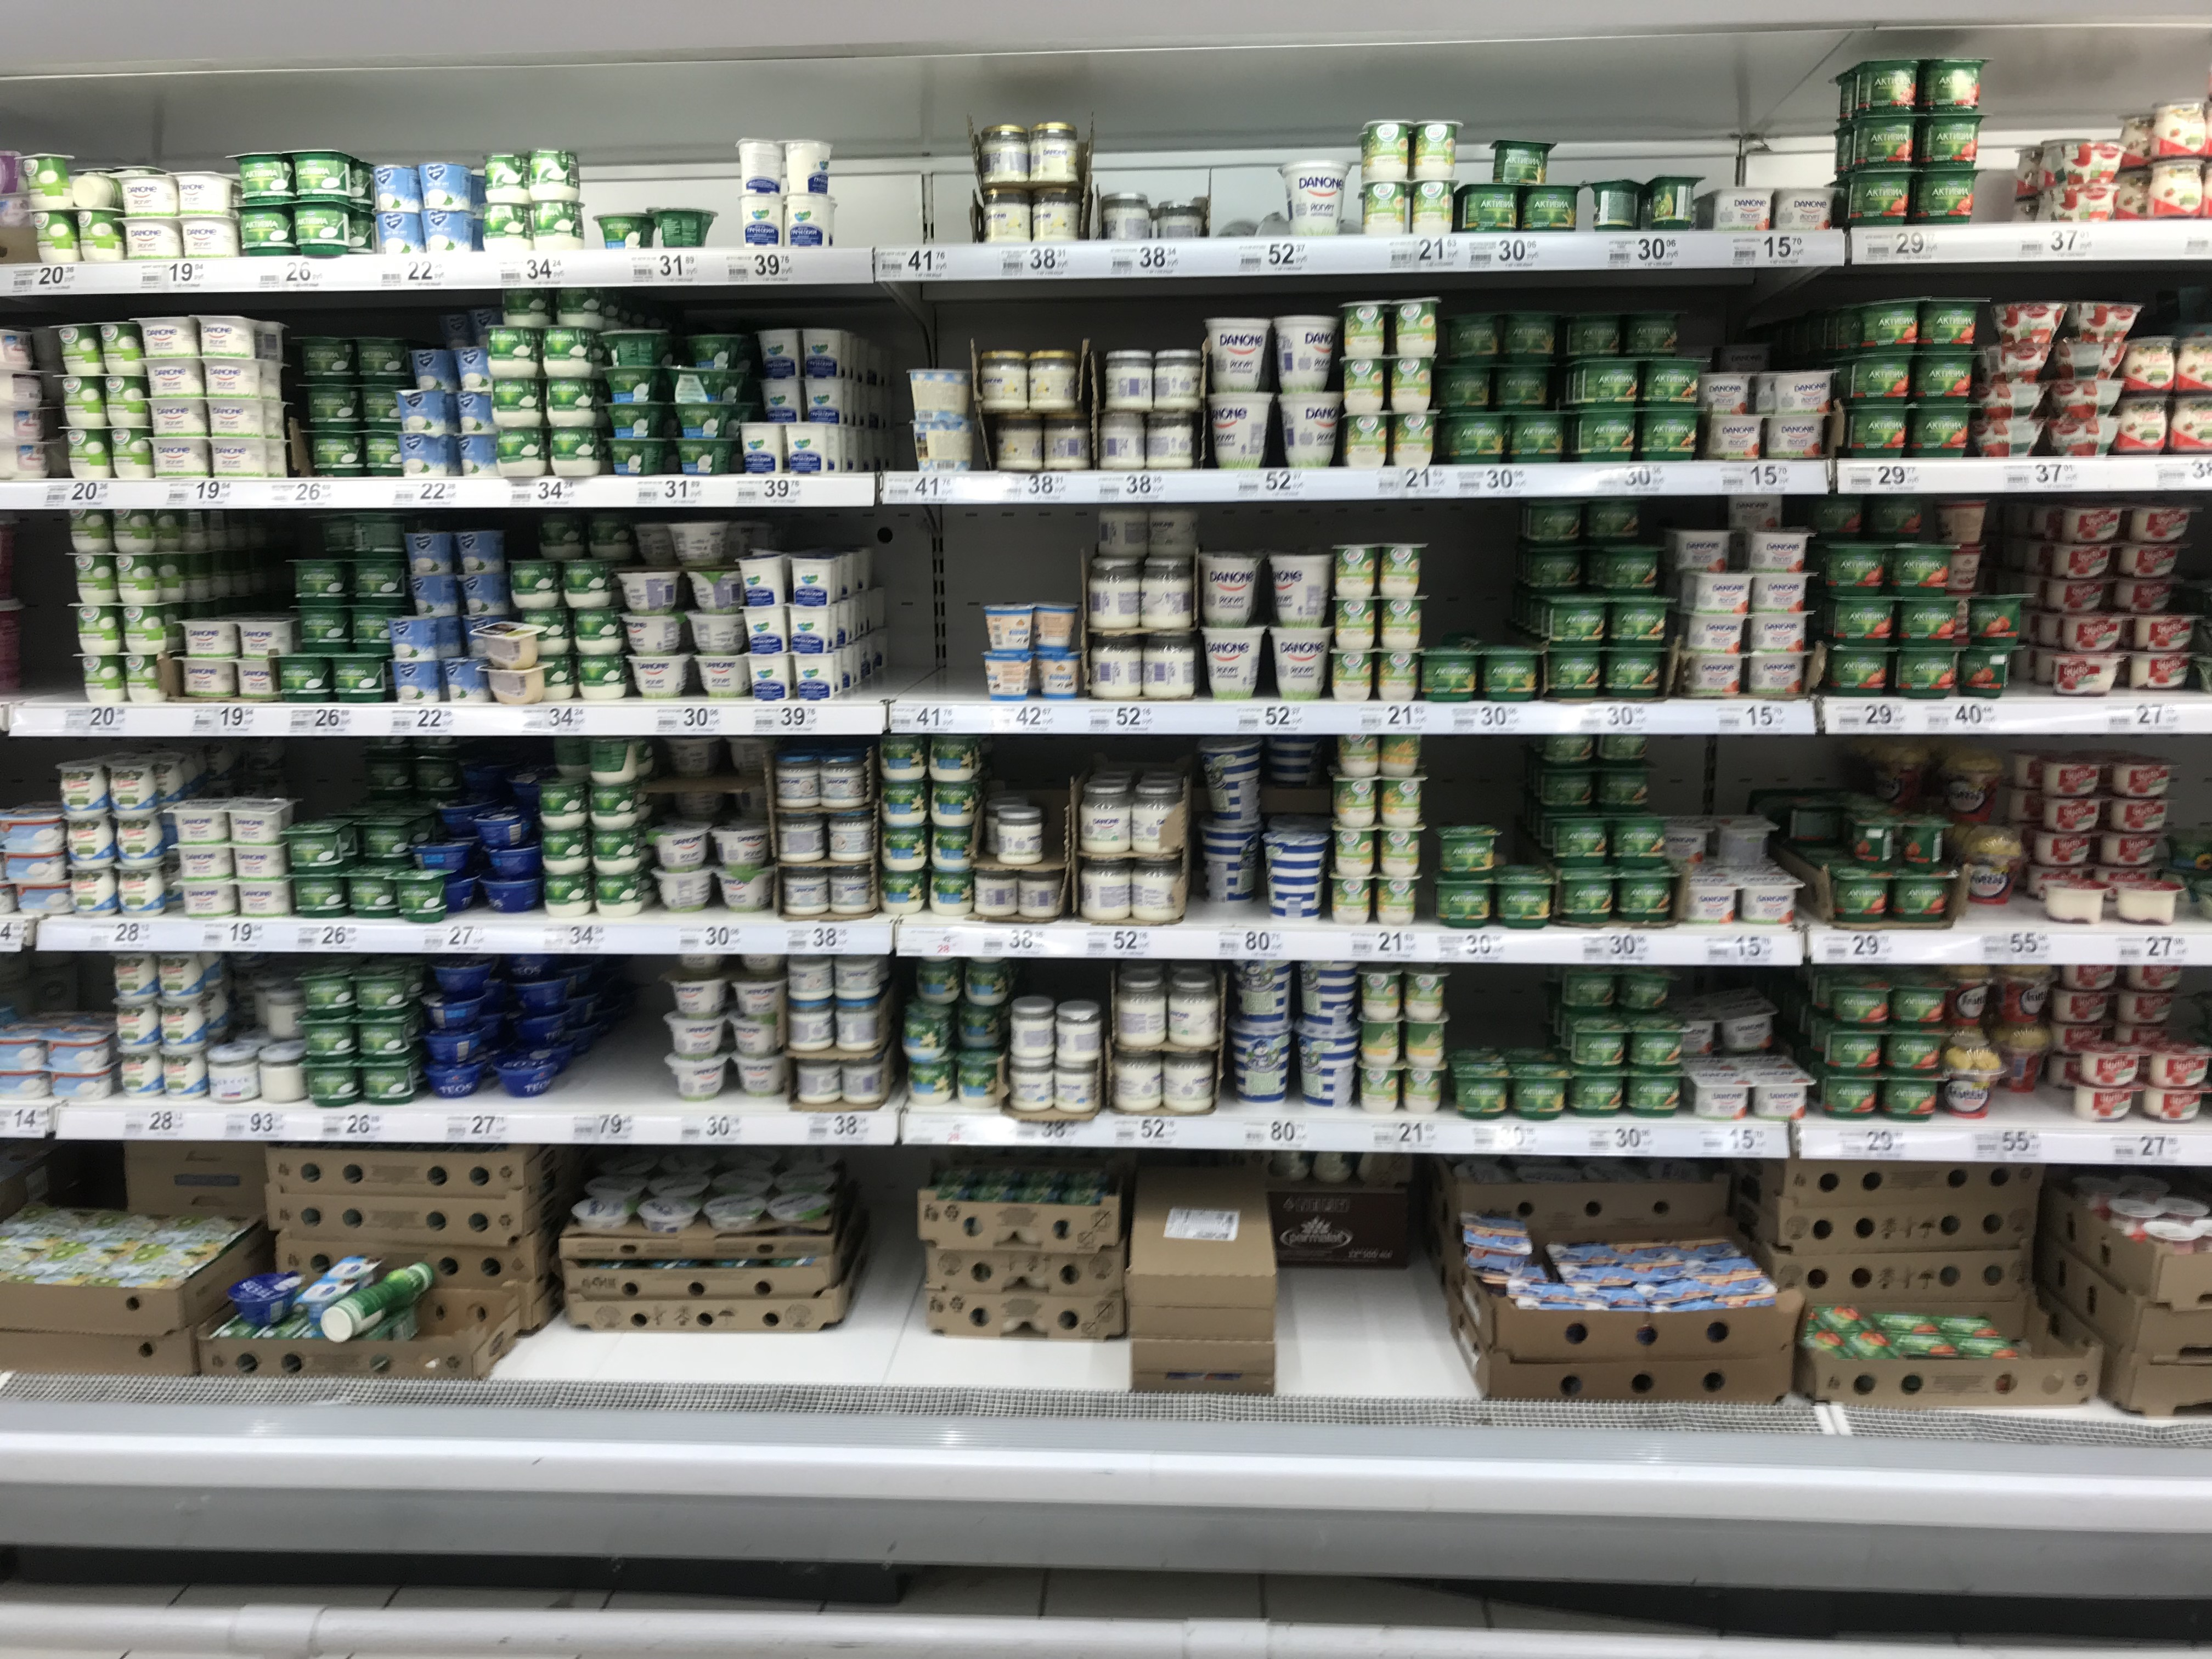yogbox: (1949, 1039, 2001, 1119), (1965, 826, 2017, 906), (1947, 746, 2000, 819), (904, 425, 974, 477), (2045, 415, 2120, 460), (2048, 650, 2121, 695), (2125, 610, 2200, 653), (2041, 877, 2107, 925), (2149, 101, 2207, 157), (1390, 298, 1444, 357), (1947, 964, 1993, 1033), (1989, 300, 2064, 340), (1972, 415, 2047, 455), (2121, 504, 2196, 544), (902, 376, 968, 422), (732, 139, 787, 192), (2116, 399, 2167, 457), (64, 211, 124, 260), (2080, 1042, 2146, 1086), (1388, 357, 1435, 418), (232, 1281, 300, 1323), (2008, 1021, 2050, 1089), (2148, 162, 2202, 214), (491, 1049, 564, 1087), (2071, 300, 2144, 338), (2128, 650, 2198, 690), (2003, 964, 2048, 1025), (258, 1049, 310, 1101), (1327, 599, 1379, 652), (2149, 1046, 2212, 1089), (2052, 615, 2130, 650), (780, 420, 829, 476), (1332, 542, 1381, 598), (23, 150, 70, 207), (1341, 415, 1388, 472), (2127, 336, 2172, 396), (2055, 340, 2125, 378), (1418, 122, 1461, 183), (2116, 882, 2182, 922), (1343, 300, 1390, 356), (2048, 380, 2120, 416), (1367, 122, 1411, 181), (51, 1061, 117, 1100), (416, 1025, 491, 1058), (2060, 145, 2125, 183), (779, 141, 831, 188), (738, 606, 791, 653), (261, 986, 307, 1040), (2118, 544, 2188, 579), (2055, 183, 2121, 220), (737, 197, 786, 246), (1378, 599, 1426, 648), (66, 429, 113, 479), (211, 1047, 258, 1098), (56, 380, 108, 425), (404, 526, 449, 579), (786, 197, 838, 242), (1331, 652, 1376, 704), (1975, 382, 2047, 415), (2078, 1086, 2142, 1122), (2111, 577, 2175, 613), (1987, 343, 2048, 382), (1407, 969, 1449, 1025), (2101, 830, 2167, 864), (2040, 579, 2106, 613), (30, 213, 78, 260), (2109, 795, 2172, 831), (51, 324, 101, 369), (446, 659, 496, 704), (1379, 650, 1425, 701), (1357, 1066, 1402, 1117), (2114, 758, 2174, 796), (397, 434, 451, 476), (798, 328, 840, 382), (2047, 544, 2114, 577), (2033, 830, 2097, 864), (2062, 507, 2127, 542), (2148, 1086, 2209, 1122), (1404, 1019, 1449, 1068), (373, 162, 423, 206), (1360, 965, 1404, 1016), (477, 805, 529, 847), (68, 167, 122, 207), (428, 993, 493, 1026), (984, 652, 1031, 697), (423, 207, 472, 251), (56, 1023, 108, 1063), (1367, 185, 1407, 237), (1343, 359, 1383, 411), (1329, 878, 1374, 924), (127, 603, 169, 652), (9, 814, 64, 850), (759, 329, 801, 378), (1404, 1065, 1444, 1115), (16, 882, 77, 915), (2054, 986, 2111, 1021), (157, 962, 202, 1006), (453, 528, 498, 572), (374, 211, 420, 254), (789, 605, 834, 648), (1336, 732, 1381, 775), (1374, 878, 1418, 924), (91, 322, 138, 364), (428, 1061, 486, 1094), (1385, 542, 1418, 599), (390, 617, 435, 659), (1334, 828, 1376, 873), (105, 383, 152, 423), (164, 1002, 204, 1049), (397, 389, 444, 429), (1360, 1018, 1400, 1065), (1416, 185, 1454, 234), (1338, 781, 1376, 830), (2175, 401, 2212, 451), (73, 556, 115, 599), (465, 572, 509, 613), (1392, 418, 1435, 460), (415, 838, 472, 870), (751, 655, 789, 702), (420, 160, 462, 202), (2043, 795, 2099, 826), (2047, 758, 2102, 789), (108, 762, 148, 805), (794, 558, 834, 601), (1038, 653, 1082, 694), (85, 655, 124, 701), (75, 810, 113, 856), (984, 612, 1031, 648), (394, 662, 442, 697), (2121, 990, 2175, 1021), (413, 575, 455, 615), (742, 561, 782, 603), (108, 432, 146, 476), (122, 659, 160, 702), (1038, 603, 1075, 648), (486, 877, 538, 908), (744, 422, 779, 469), (1383, 782, 1421, 824), (1383, 831, 1421, 873), (3, 1030, 49, 1065), (117, 511, 155, 551), (122, 875, 162, 913), (66, 765, 103, 807), (122, 819, 164, 856), (2054, 1021, 2102, 1053), (1385, 734, 1420, 777), (9, 856, 63, 884), (456, 430, 495, 469), (792, 659, 831, 697), (2182, 336, 2212, 385), (2062, 964, 2116, 990), (5, 1066, 56, 1094), (413, 350, 449, 389), (491, 845, 543, 871), (124, 1051, 160, 1087), (122, 1009, 162, 1042), (167, 1051, 200, 1091), (70, 512, 110, 544), (80, 878, 115, 913), (763, 385, 798, 420), (117, 958, 150, 995), (75, 612, 113, 643), (458, 389, 488, 427), (118, 565, 153, 596), (456, 343, 482, 376), (2135, 969, 2179, 988)
yogbox.activ.ky.kivi: (1646, 356, 1710, 408), (1578, 410, 1642, 462), (1590, 490, 1655, 542), (1552, 816, 1616, 868), (1601, 545, 1663, 598), (1547, 594, 1609, 647), (1573, 359, 1637, 410), (1642, 411, 1707, 462), (1602, 647, 1667, 697), (1540, 647, 1604, 697), (1524, 540, 1588, 591), (1521, 491, 1585, 542), (1609, 821, 1674, 871), (1534, 765, 1599, 816), (1564, 1018, 1629, 1068), (1564, 1070, 1629, 1121), (1604, 594, 1667, 645), (1618, 875, 1681, 925), (1557, 875, 1620, 925), (1599, 765, 1662, 816), (1627, 1016, 1689, 1066), (1562, 965, 1625, 1016), (1622, 964, 1684, 1014), (1632, 1075, 1695, 1126)
yogbox.activ.ky.klubnik: (1893, 645, 1958, 701), (1834, 587, 1898, 643), (1827, 538, 1892, 594), (1890, 538, 1954, 594), (1846, 404, 1911, 460), (1851, 349, 1916, 404), (1916, 295, 1980, 350), (1905, 406, 1970, 462), (1918, 115, 1982, 171), (1853, 110, 1918, 166), (1857, 295, 1919, 350), (1968, 589, 2031, 645), (1900, 594, 1965, 648), (1912, 349, 1977, 403), (1848, 173, 1912, 227), (1914, 169, 1979, 223), (1918, 59, 1982, 113), (1834, 866, 1893, 924), (1858, 59, 1921, 113), (1893, 875, 1952, 931), (1836, 976, 1895, 1032), (1892, 976, 1951, 1032), (1890, 1019, 1949, 1075), (1893, 814, 1952, 870), (1829, 643, 1888, 699), (1818, 1075, 1883, 1121), (1881, 1077, 1947, 1121), (1825, 1032, 1890, 1075), (1846, 816, 1892, 871)
yogbox.activ.ky.nat: (286, 824, 348, 875), (307, 382, 369, 432), (347, 331, 409, 382), (284, 868, 345, 918), (343, 866, 404, 917), (352, 819, 413, 870), (394, 871, 455, 922), (294, 967, 355, 1018), (355, 965, 416, 1016), (354, 1012, 415, 1063), (294, 1011, 355, 1061), (303, 1056, 364, 1107), (359, 1054, 420, 1105), (327, 655, 388, 706), (273, 655, 334, 706), (294, 599, 355, 650), (347, 601, 408, 652), (348, 552, 409, 603), (287, 554, 348, 605), (305, 429, 366, 479), (296, 333, 357, 383), (291, 204, 352, 254), (291, 152, 352, 202), (233, 152, 294, 202), (232, 207, 293, 258), (362, 427, 401, 477), (362, 382, 401, 430)
yogbox.activ.ky.otrub: (1435, 361, 1494, 413), (1494, 134, 1554, 186), (1482, 648, 1540, 701), (1446, 410, 1503, 462), (1446, 310, 1503, 362), (1501, 308, 1559, 361), (1463, 183, 1521, 235), (1451, 1068, 1510, 1119), (1510, 415, 1569, 465), (1496, 364, 1555, 415), (1439, 826, 1496, 877), (1437, 873, 1494, 924), (1494, 878, 1552, 929), (1510, 1068, 1568, 1119), (1522, 181, 1580, 232), (1425, 648, 1477, 699)
yogbox.activ.ty.nat: (585, 512, 643, 561), (486, 324, 543, 373), (535, 870, 592, 918), (510, 559, 566, 608), (563, 559, 618, 608), (571, 606, 627, 655), (578, 652, 634, 701), (535, 511, 590, 559), (547, 425, 603, 474), (491, 425, 547, 474), (543, 376, 599, 425), (489, 376, 545, 425), (542, 324, 597, 373), (533, 202, 589, 251), (477, 204, 533, 253), (523, 150, 578, 199), (474, 153, 529, 202), (583, 782, 639, 831), (529, 781, 585, 830), (538, 824, 594, 873), (589, 868, 644, 917), (590, 824, 646, 873)
